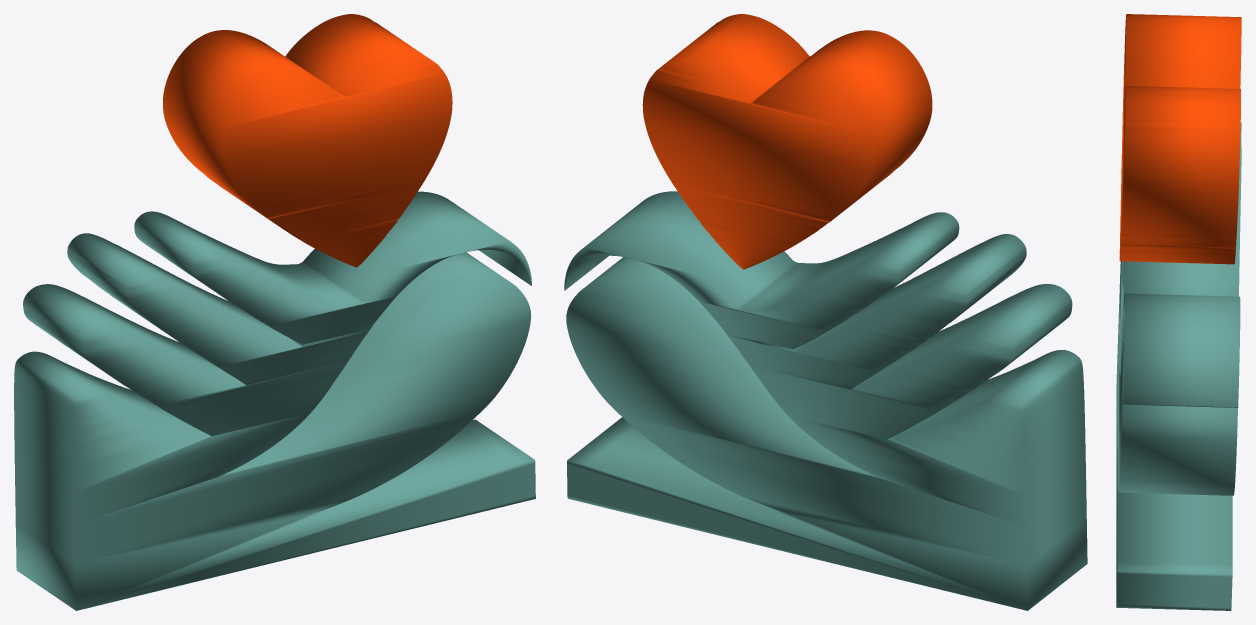
File: doner.glb
3 views of the same model, side by side, from view 1: azimuth 30°, elevation 25°; view 2: azimuth 150°, elevation 25°; view 3: azimuth 270°, elevation 25° (orthographic). The views are drawn at different scales.
Visible parts, largest first — view 1: Curve.001, Curve.002; view 2: Curve.001, Curve.002; view 3: Curve.001, Curve.002.
Boxes of the visible parts, x1,y1,x2,y2 form: Curve.001: (14,191,535,610); Curve.002: (163,14,452,267); Curve.001: (564,191,1087,610); Curve.002: (642,14,932,269); Curve.001: (1116,122,1241,610); Curve.002: (1119,14,1241,264).
Bounding box in the file's own units: 1.77 × 1.81 × 0.4357.
